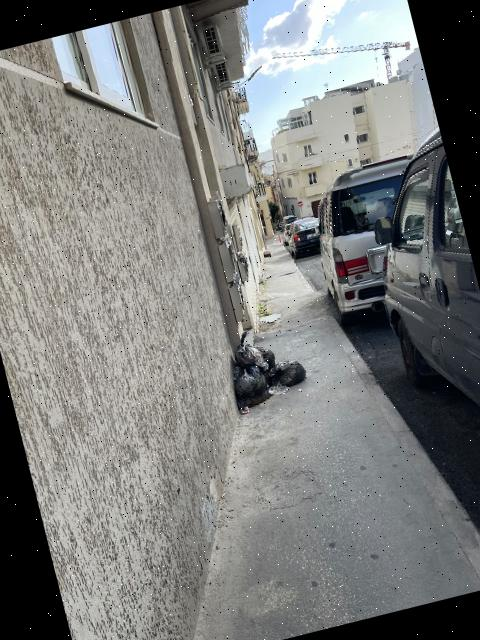Mixed -Black-: (234, 366, 269, 406), (273, 360, 306, 386), (257, 346, 276, 369)
Other: (269, 380, 290, 395), (241, 406, 249, 414)
Recyclable -Grey-: (235, 343, 269, 372)
